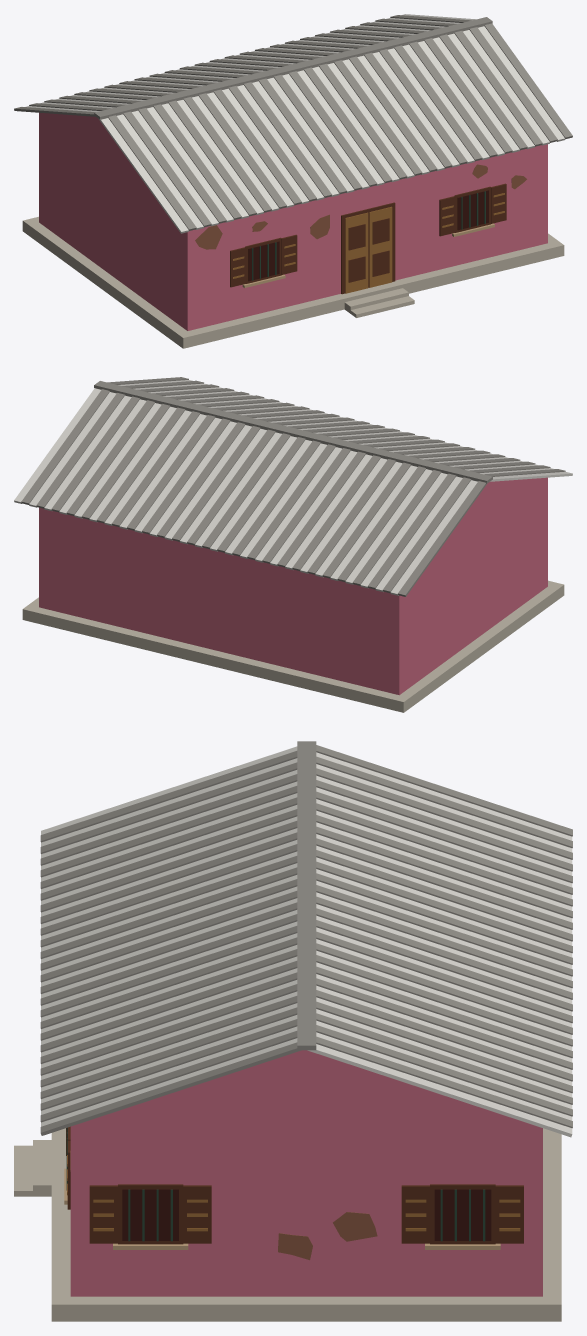
File: compound_house.glb
3 views of the same model, one above another, from view 1: azimuth 30°, elevation 25°; view 2: azimuth 150°, elevation 25°; view 3: azimuth 270°, elevation 25° (orthographic). The views are drawn at different scales.
Visible parts, largest first — view 1: Roof, Walls, Base, Details; view 2: Roof, Walls, Base; view 3: Roof, Walls, Base, Details.
Boxes of the visible parts, x1,y1,x2,y2 form: Roof: [14, 14, 572, 233]; Walls: [39, 112, 547, 330]; Base: [22, 216, 564, 348]; Details: [230, 183, 506, 294]; Roof: [14, 377, 572, 596]; Walls: [39, 477, 547, 695]; Base: [22, 580, 564, 712]; Roof: [40, 741, 572, 1137]; Walls: [70, 1050, 542, 1296]; Base: [14, 1128, 561, 1321]; Details: [64, 1126, 523, 1249].
Size of what is drawn, in the model's own units: 11.44 by 4.92 by 8.88.
